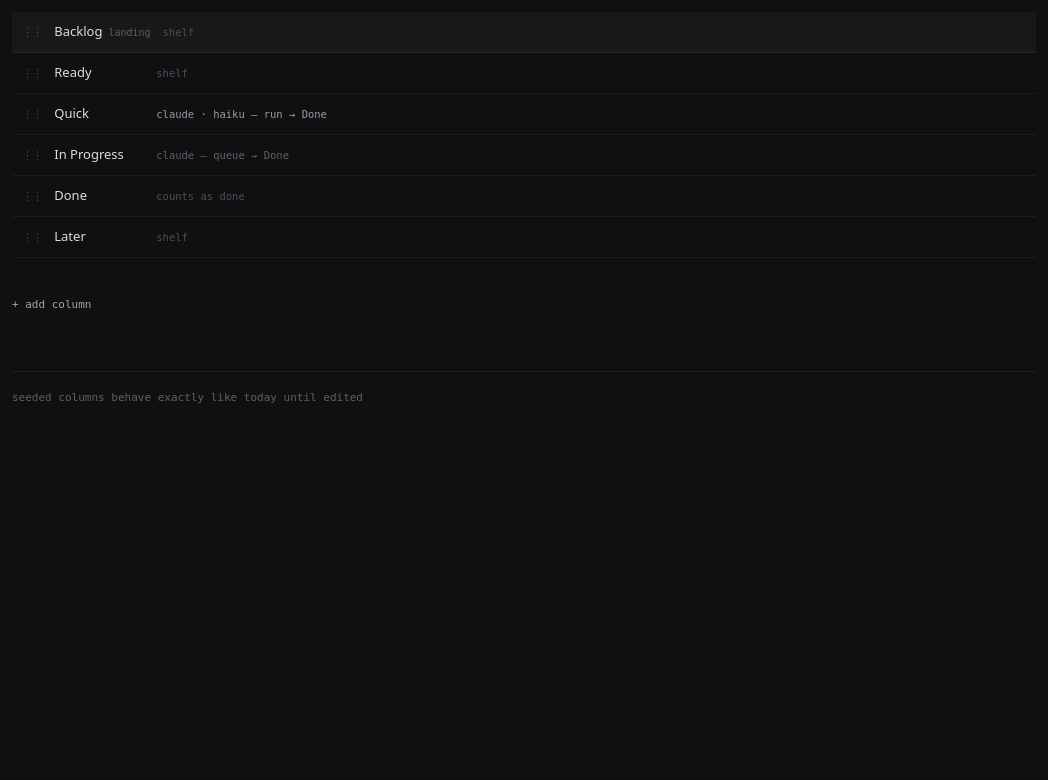
delete › shows the advance-target reason on a column another column advances to
The width and height of the screenshot is (1048, 780).
Expected: the text "Backlog" is shown, [54,22,102,40]
Click the button with class "fc-col-row" showing "⋮⋮ Done counts as done" at (71, 195), box [14,176,1036,216]
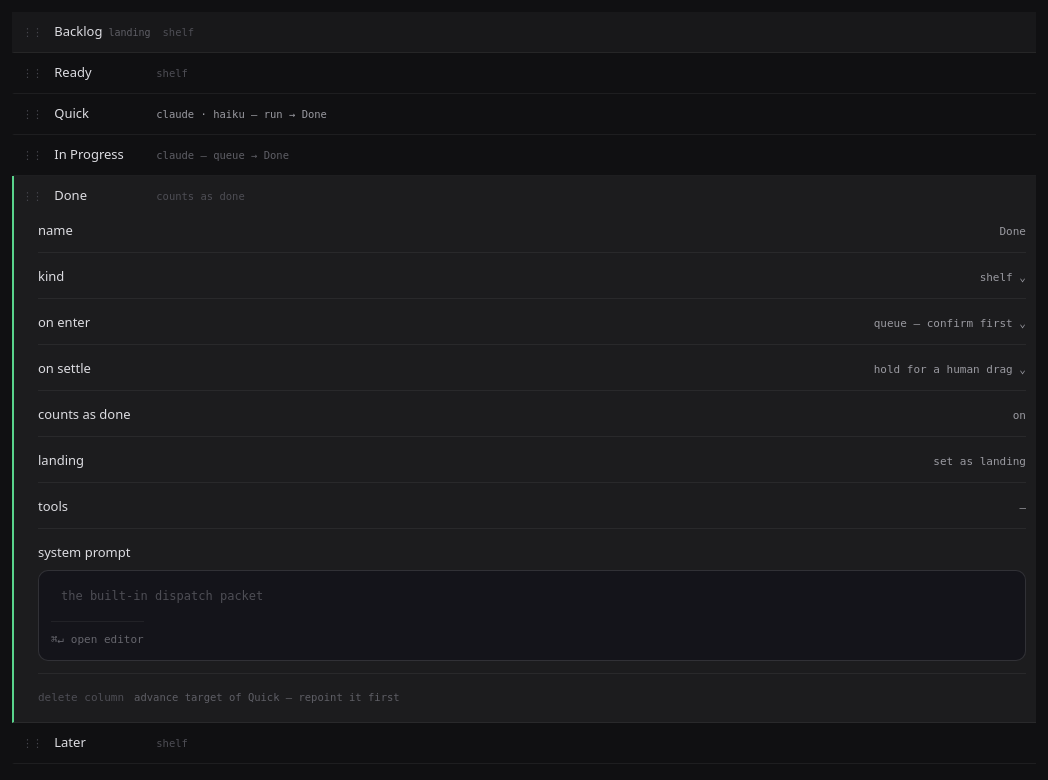
Now the text with class "fc-col-delete-reason" reads "advance target of Quick — repoint it first", box [134,691,400,703]
